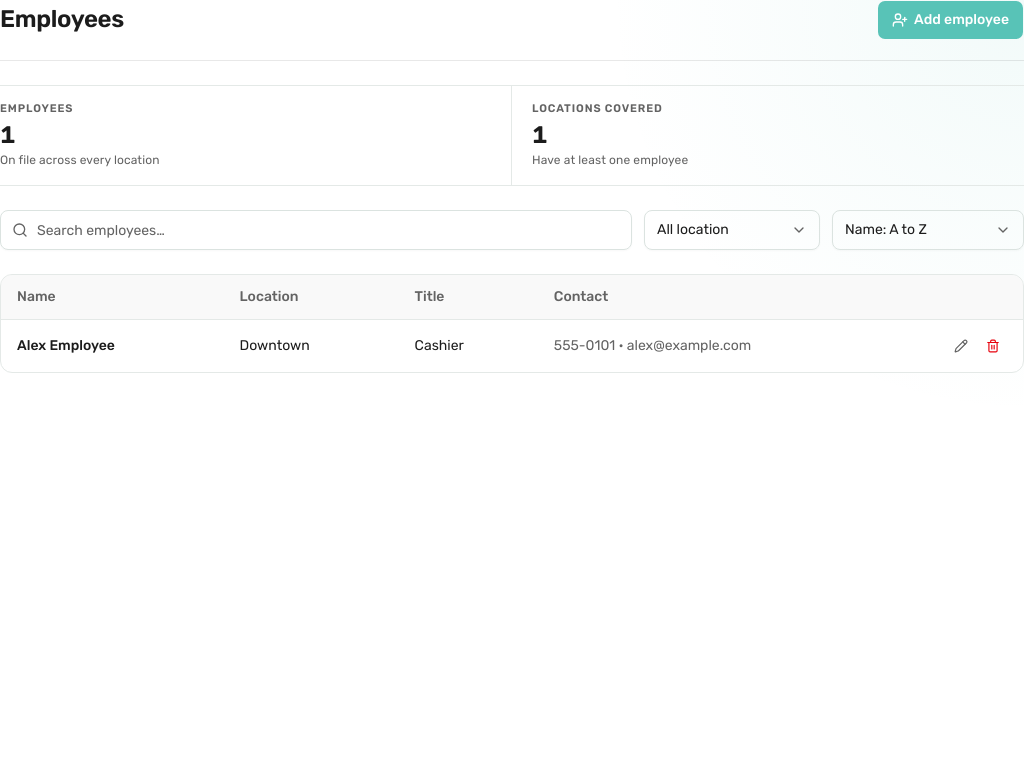
EmployeesPage › filters the roster by location
The width and height of the screenshot is (1024, 768).
Expected: the text "Alex Employee" is shown, [1,319,224,372]
Click the dropdown named "Filter Employees by Location": [732, 230] box [644,210,820,250]
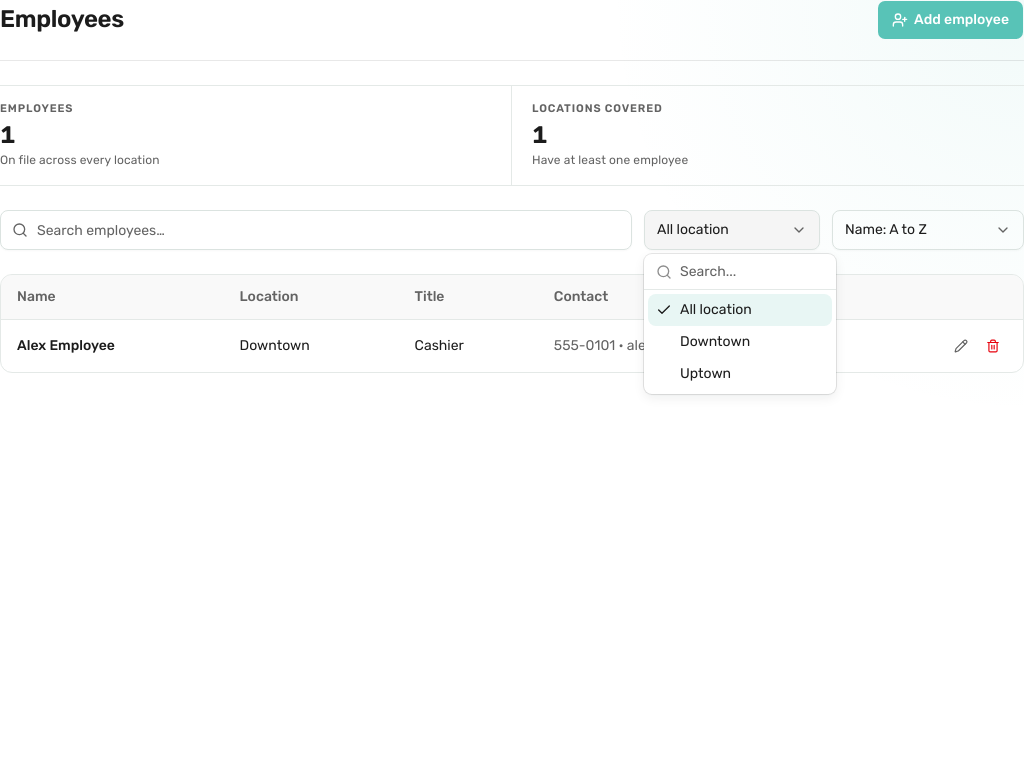
Click the option "Uptown": [706, 374] box [680,365,731,382]
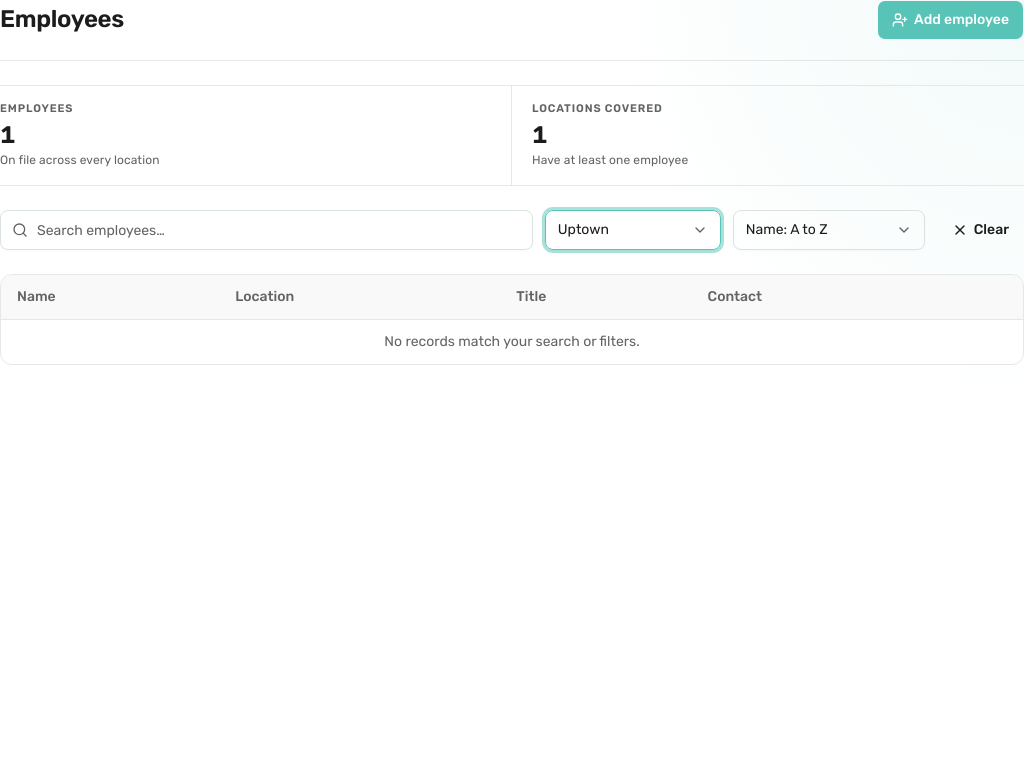
Now the text "Alex Employee" is gone
